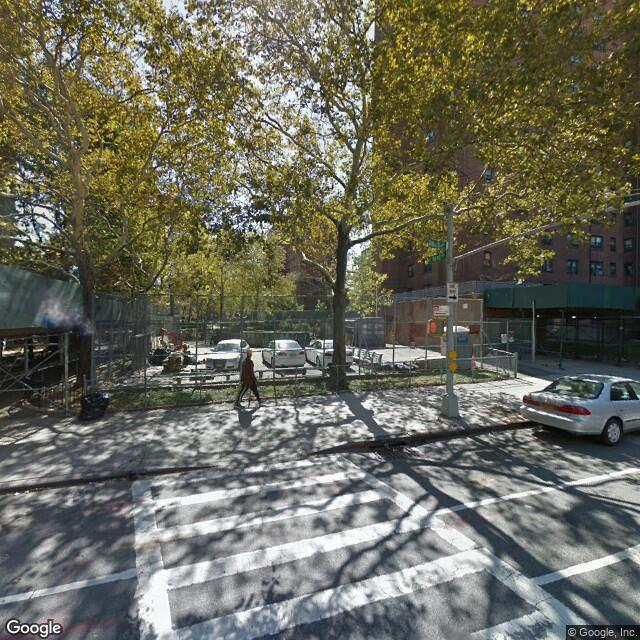litter: (6, 490, 37, 499)
